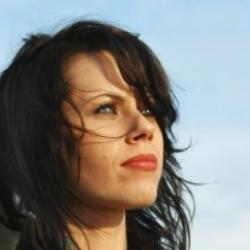face: (1, 14, 206, 245)
